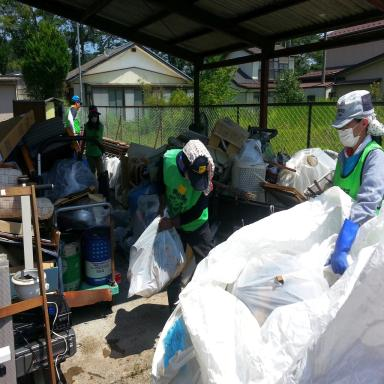plasticbag: (150, 184, 383, 383), (126, 212, 187, 298), (276, 146, 339, 197), (44, 157, 100, 201), (62, 199, 111, 228), (132, 194, 160, 240), (231, 139, 264, 166), (112, 224, 125, 246)
